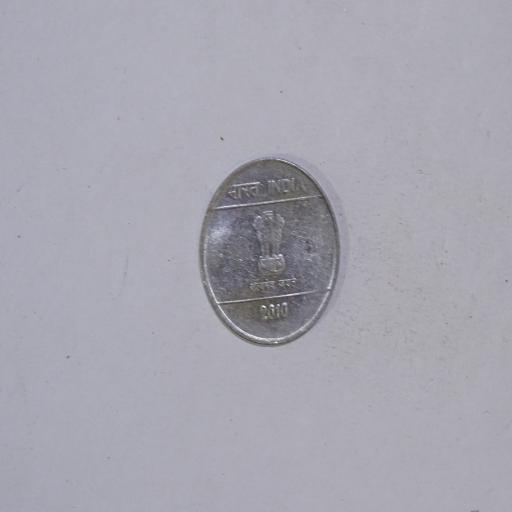rupee2: (198, 156, 341, 346)
